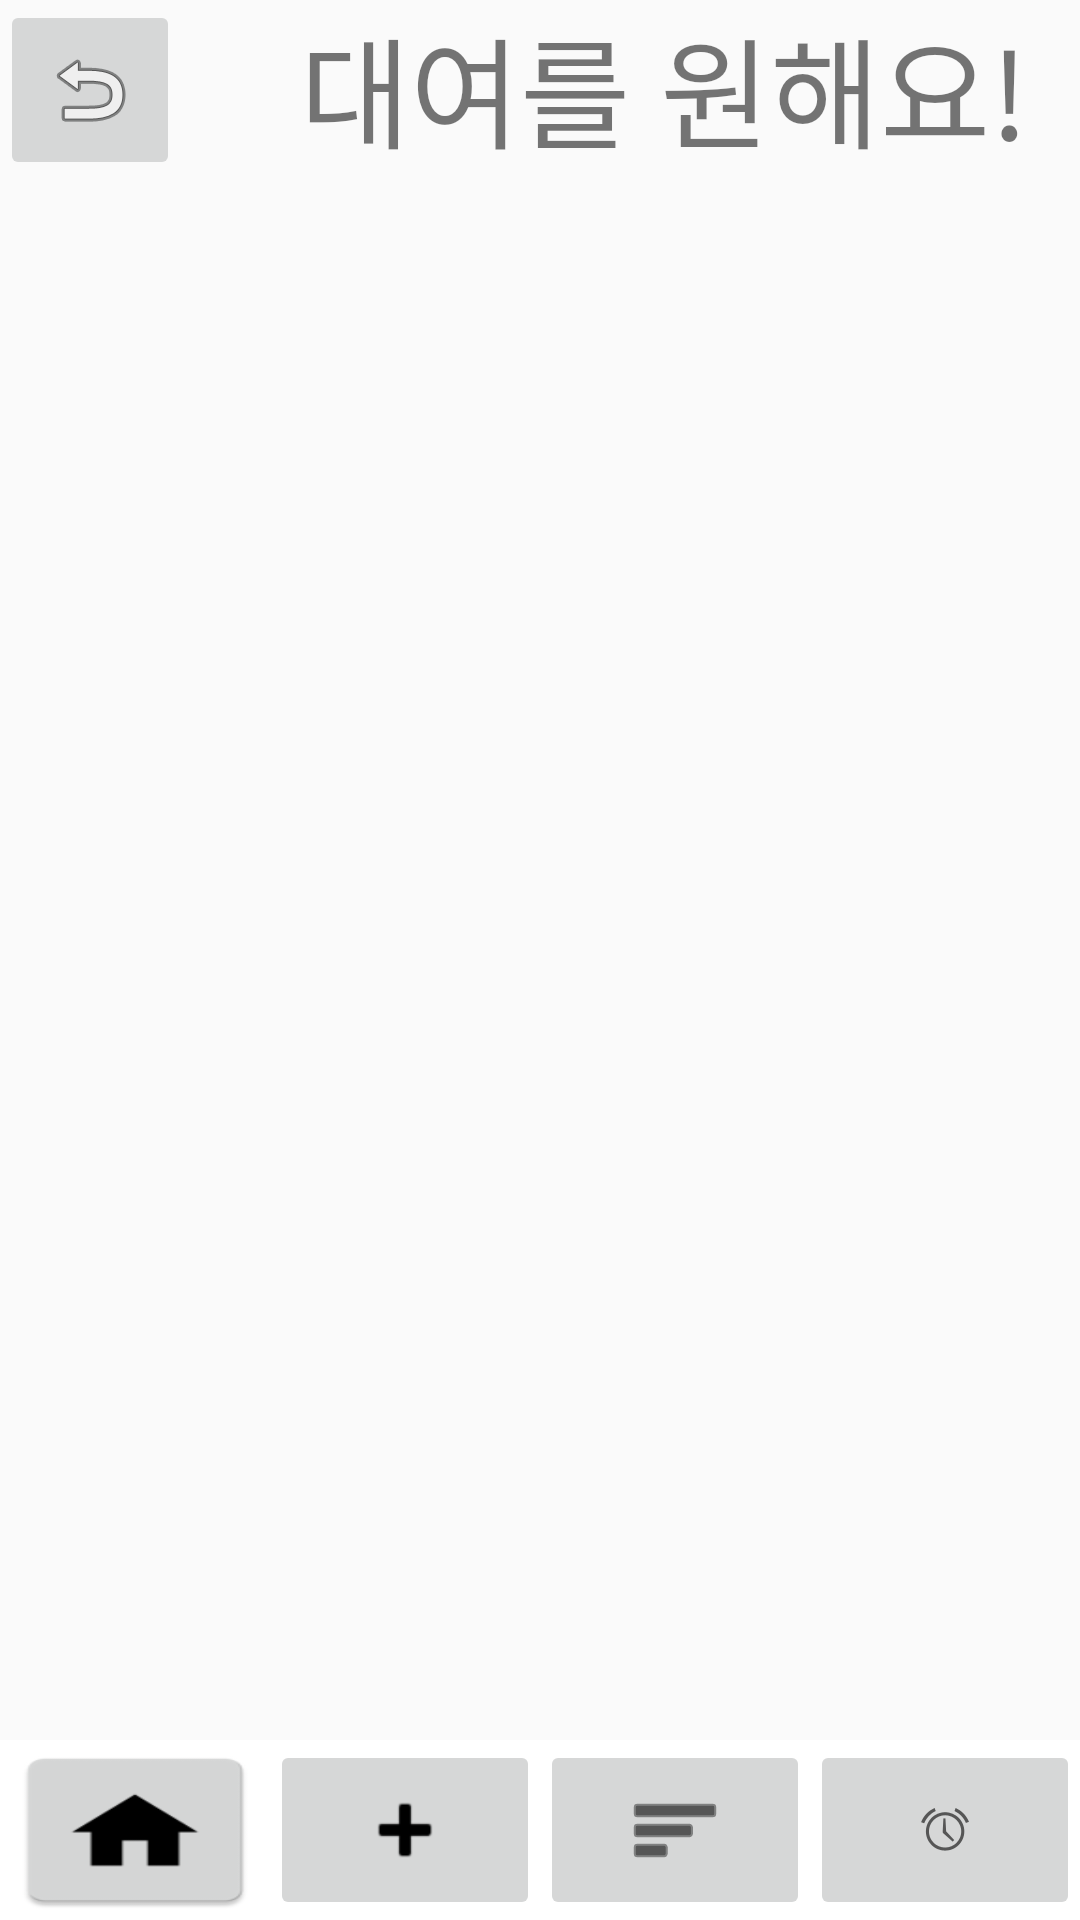

Point at icon controls on the screen. Image size 1080px×1920px, points as (x,y).
add: (405,1830)
revert: (90,90)
sort by size: (675,1830)
